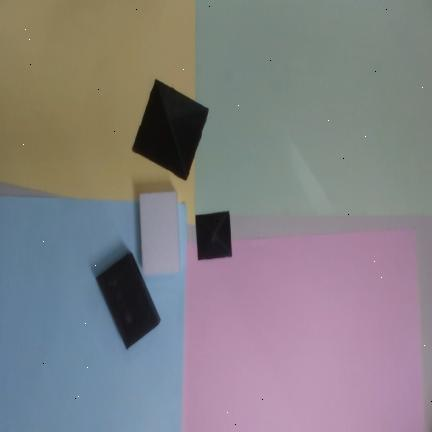Paralelepipedo: (96, 253, 161, 350), (139, 192, 181, 275)
Piramide: (131, 79, 210, 182), (195, 211, 232, 260)
